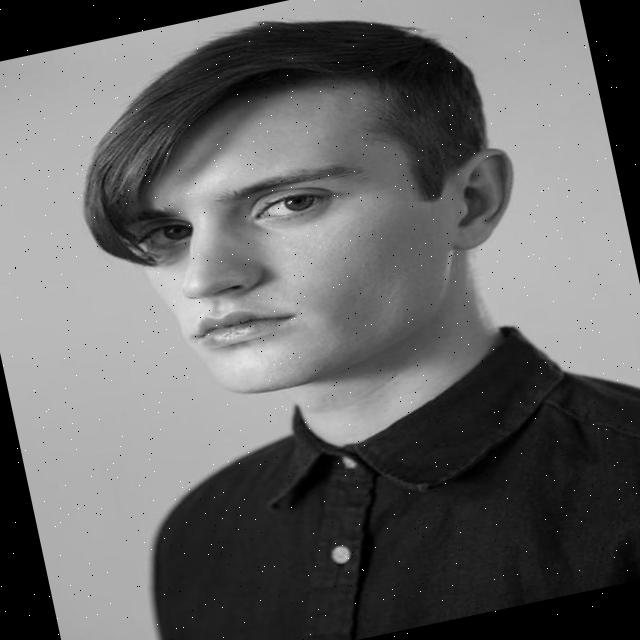Neutral: (115, 67, 468, 410)
